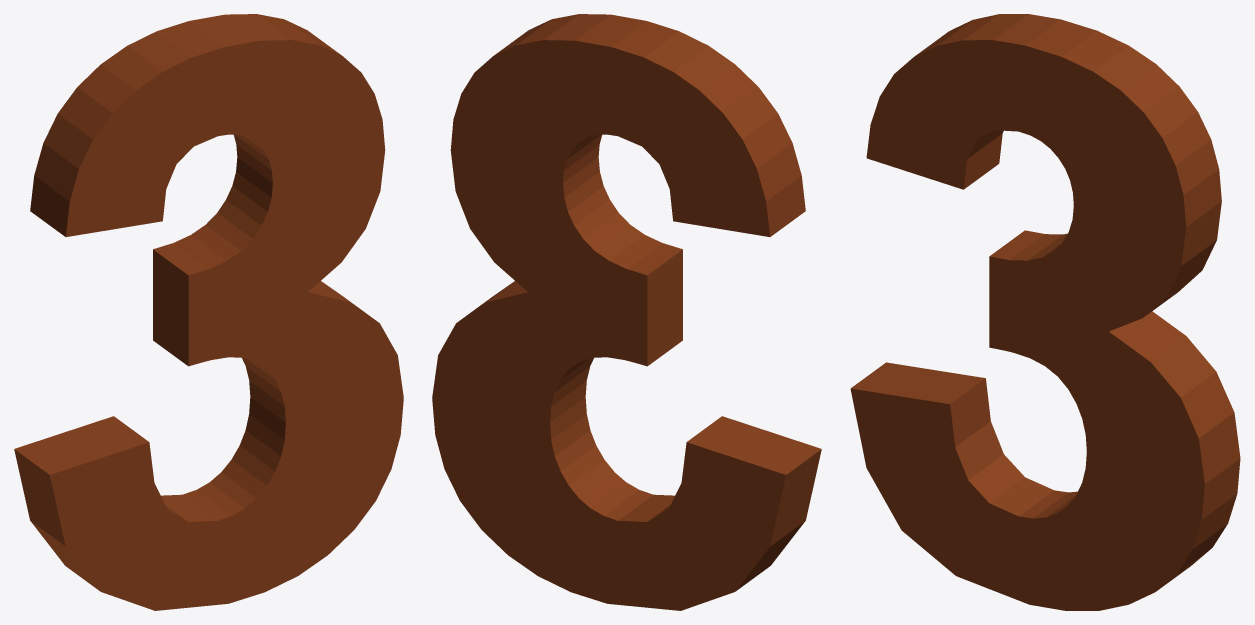
Rendered from num_3.glb.
3 views of the same model, side by side, from view 1: azimuth 30°, elevation 25°; view 2: azimuth 150°, elevation 25°; view 3: azimuth 330°, elevation 25° (orthographic).
Visible parts, largest first — view 1: num_3; view 2: num_3; view 3: num_3.
Boxes of the visible parts, x1,y1,x2,y2 form: num_3: (14, 14, 403, 610); num_3: (432, 14, 821, 610); num_3: (850, 14, 1240, 610).
Bounding box in the file's own units: 1.15 × 1.73 × 0.2.
